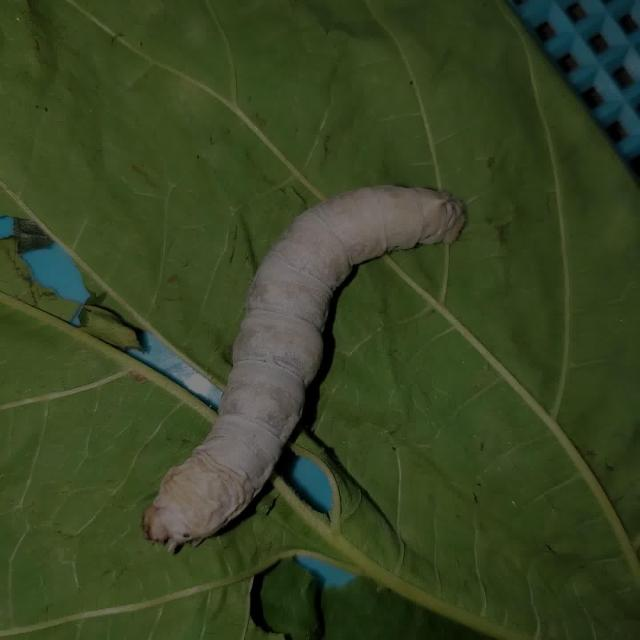Grasserie: (130, 147, 492, 571)
